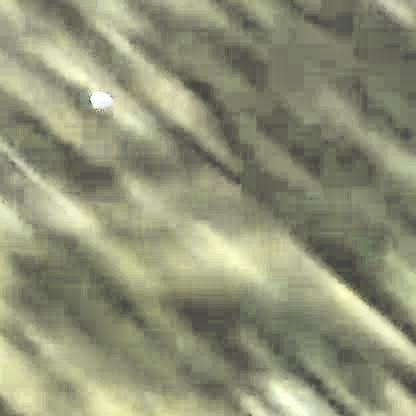golfball: (85, 93, 113, 112)
